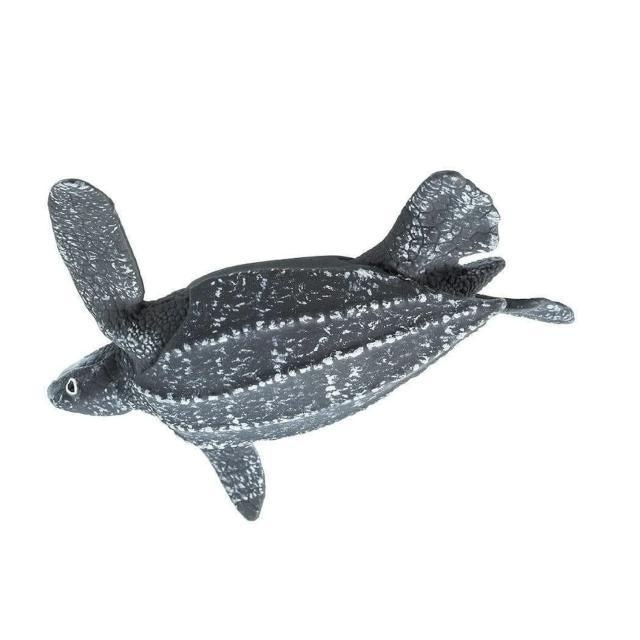turtle: (46, 168, 574, 524)
